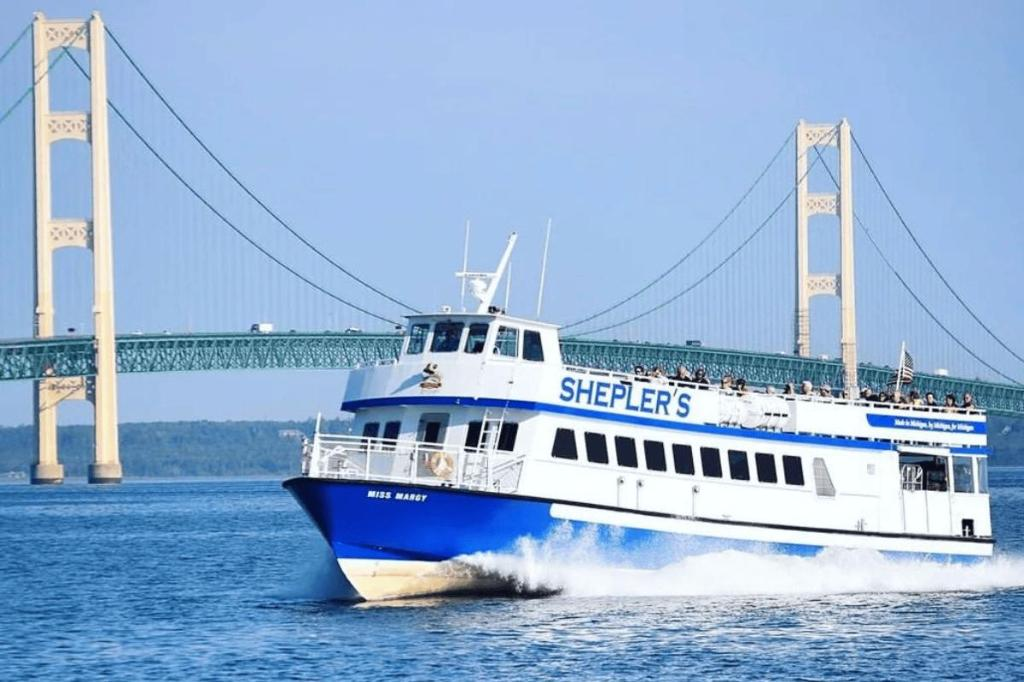PassengerShip: (274, 241, 1000, 603)
